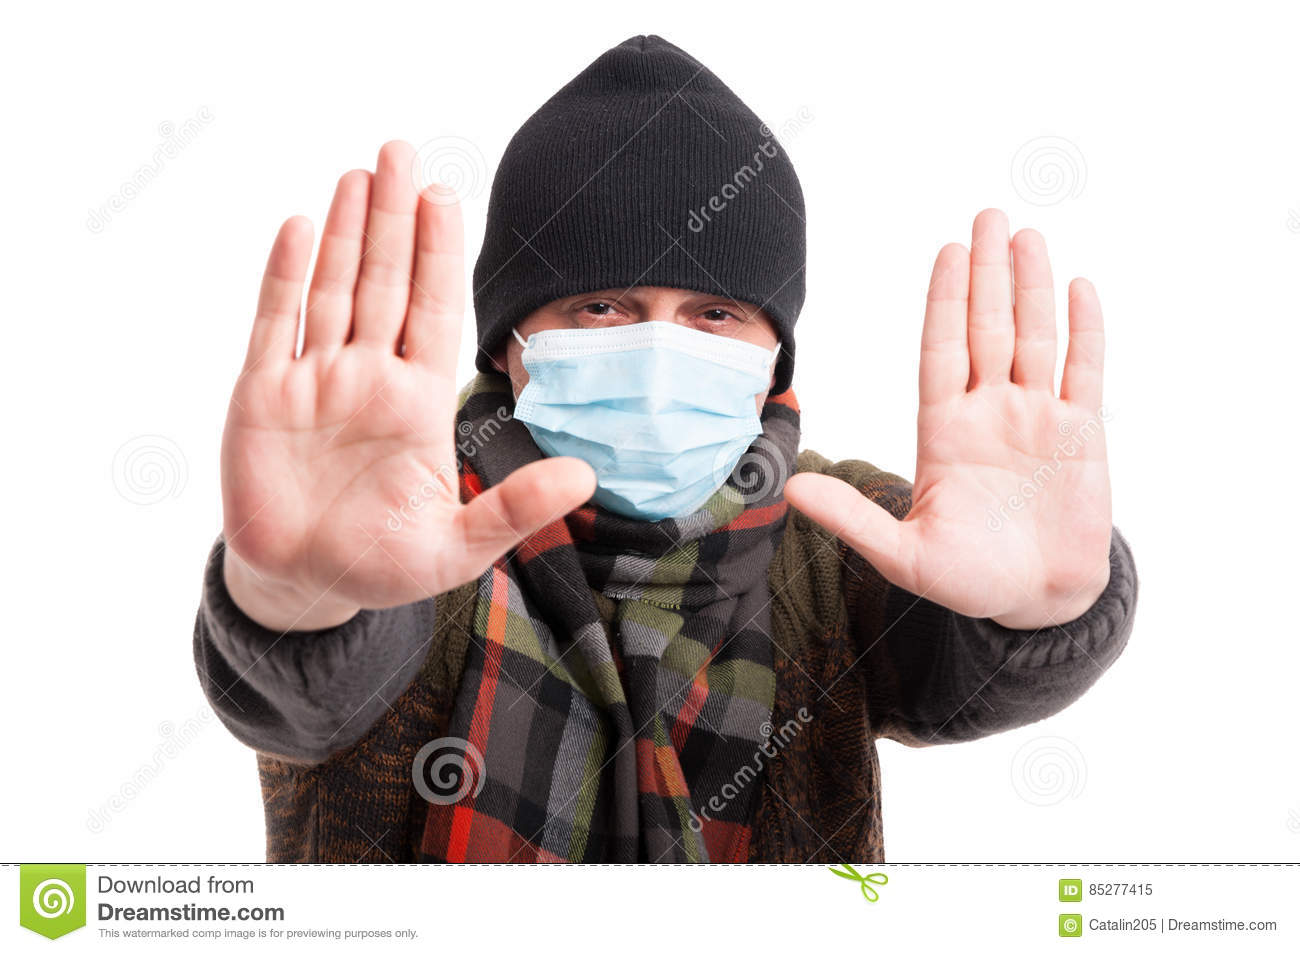mask: (511, 324, 775, 523)
